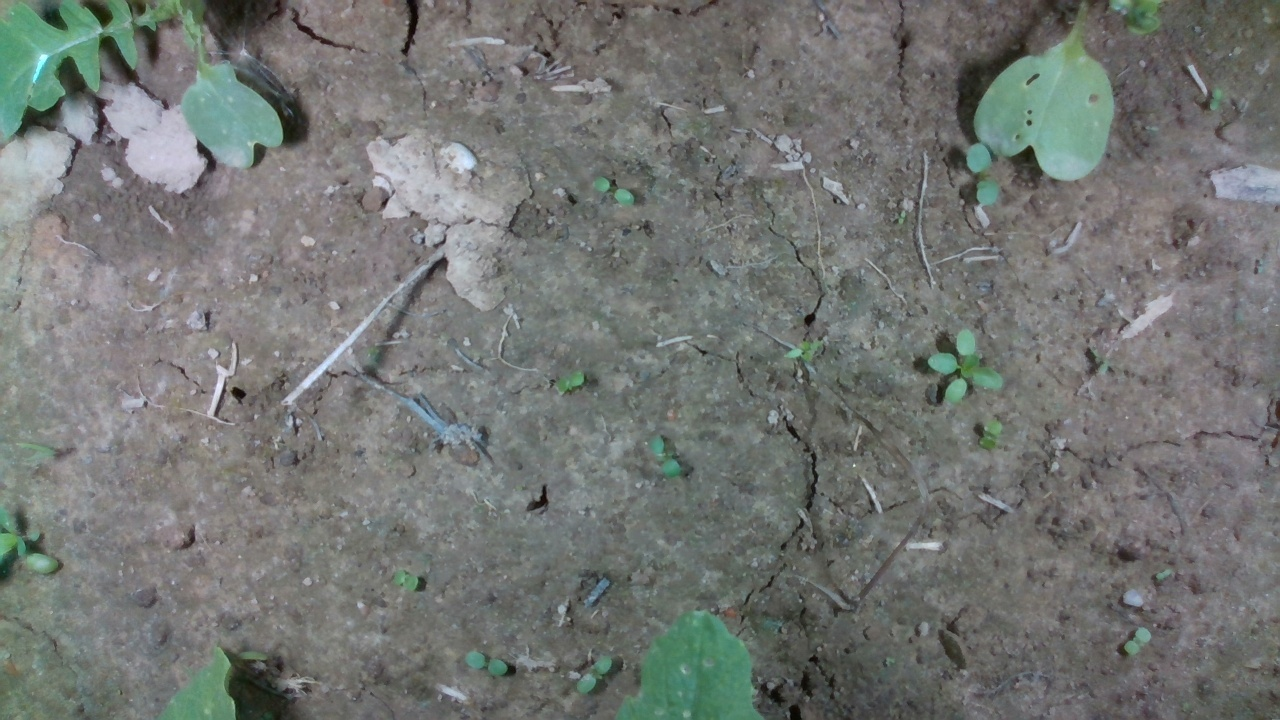weed: (1117, 627, 1153, 655)
